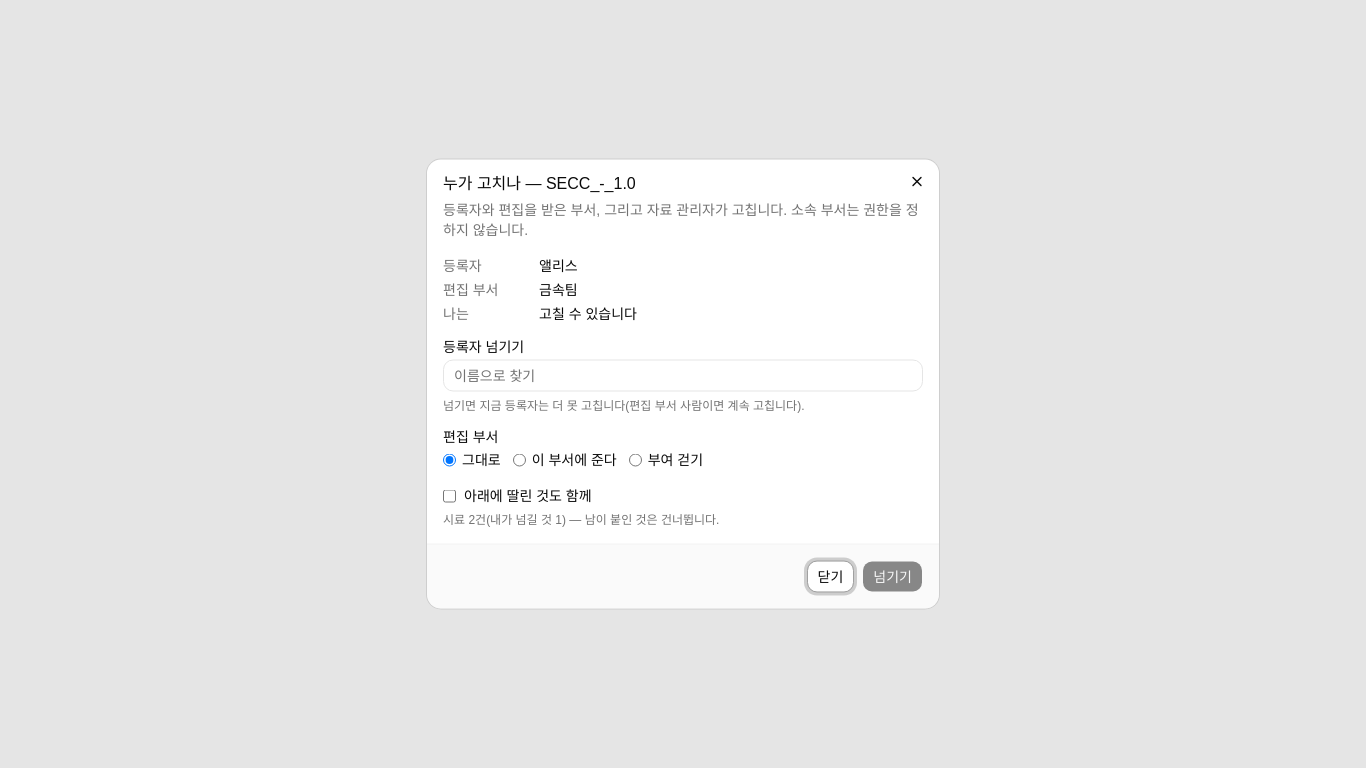
Test: 넘기는 창 › 건너뛴 것을 이름과 까닭으로 말한다
The width and height of the screenshot is (1366, 768).
Click the radio button labelled "부여 걷기" at (635, 460), box top-left (629, 453), bottom-right (642, 466)
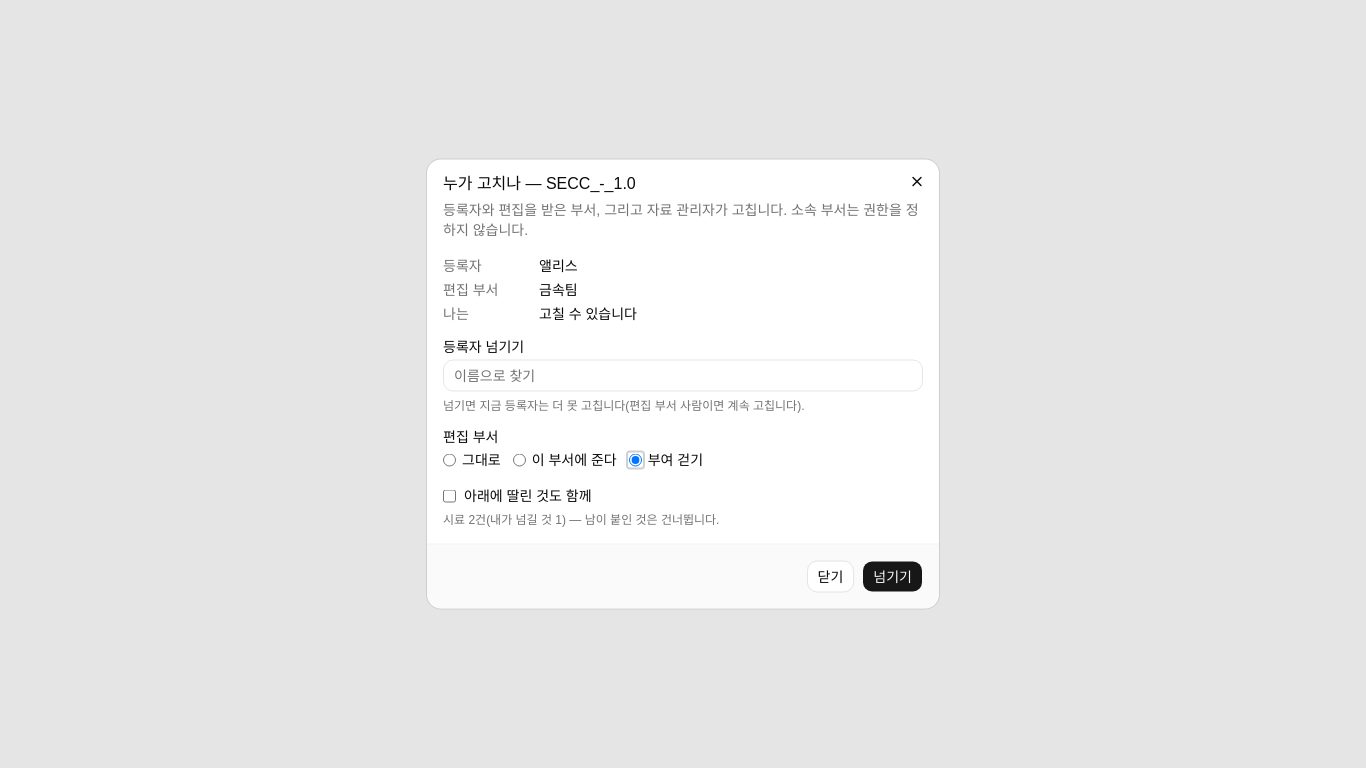
Click the checkbox labelled "아래에 딸린 것도 함께" at (450, 496), box top-left (443, 489), bottom-right (456, 502)
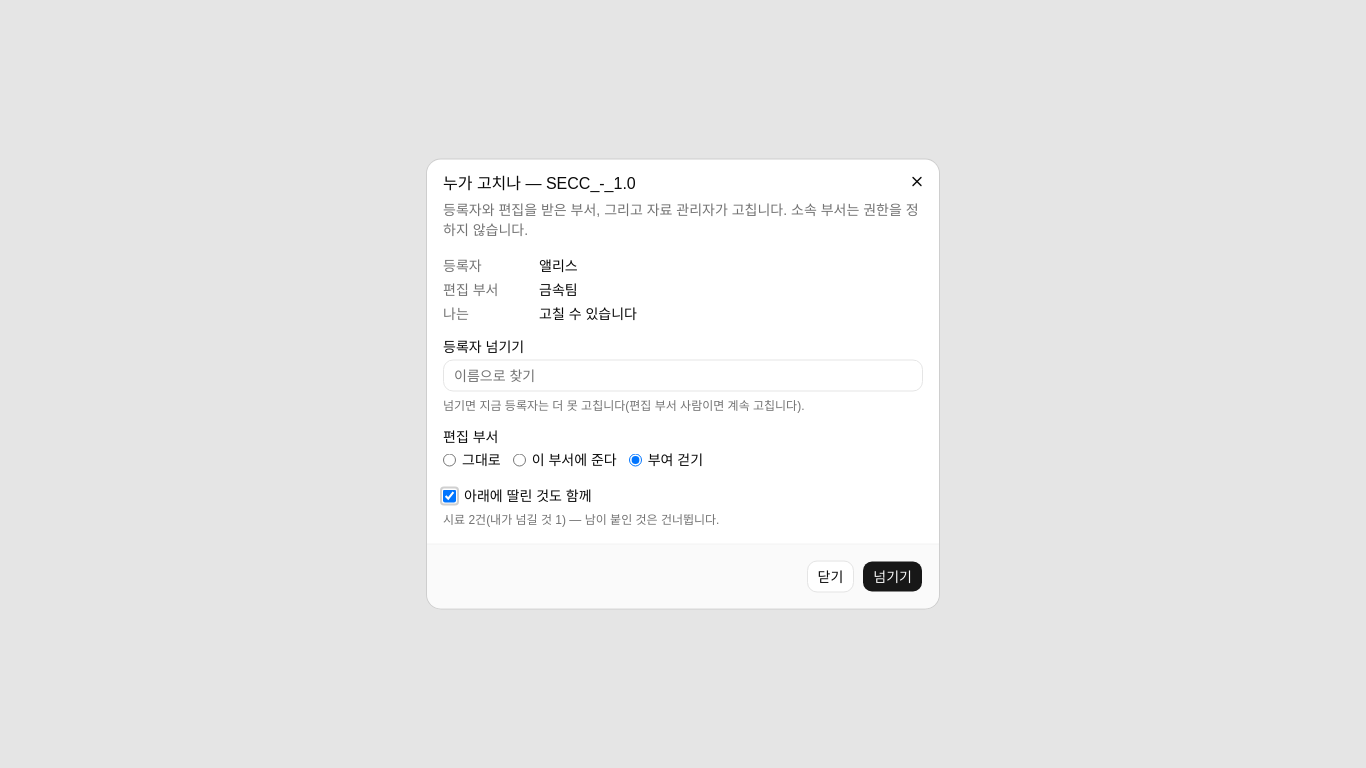
Click the button "넘기기" at (893, 576), box top-left (862, 560), bottom-right (923, 592)
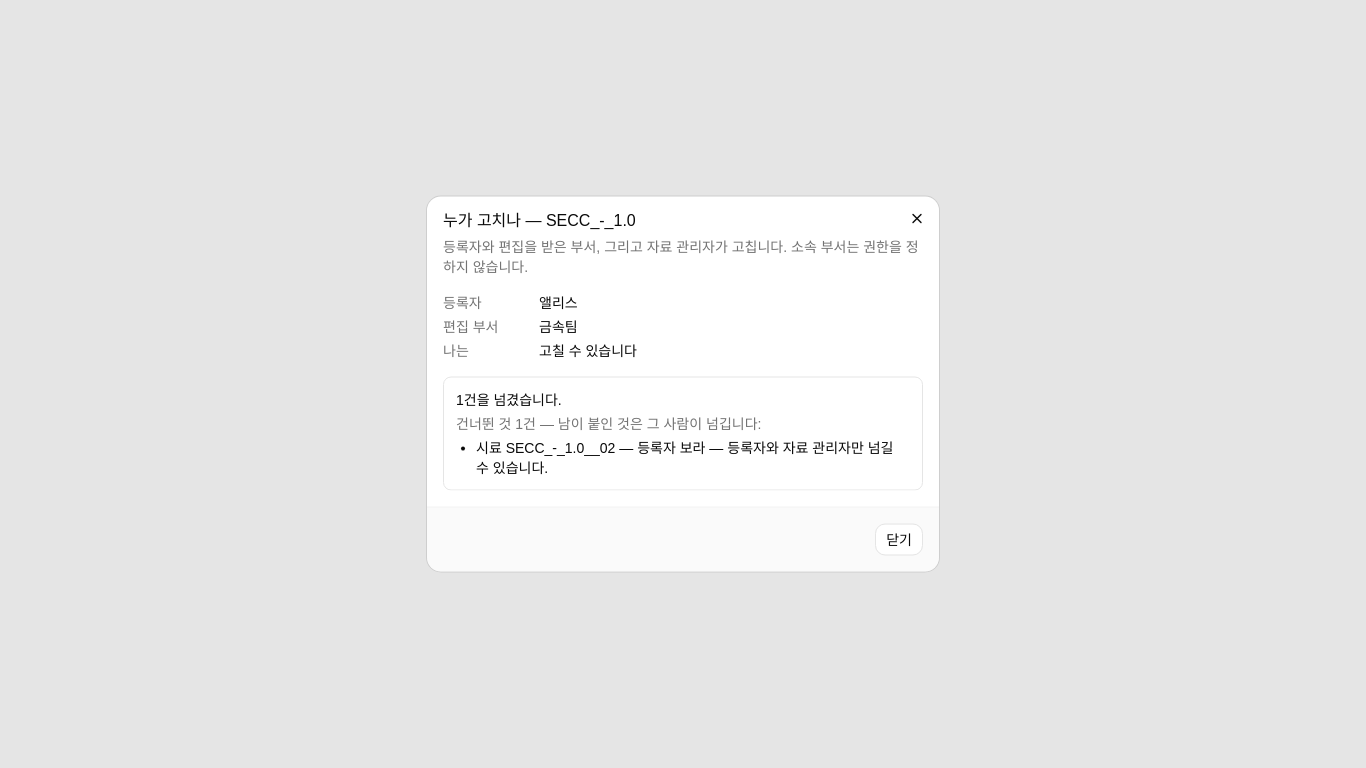
Now the text "1건을 넘겼습니다." is shown, box top-left (456, 392), bottom-right (562, 408)
Now the list item "시료 SECC_-_1.0__02 — 등록자 보라 — 등록자와 자료 관리자만 넘길 수 있습니다." is shown, box top-left (476, 438), bottom-right (910, 478)
